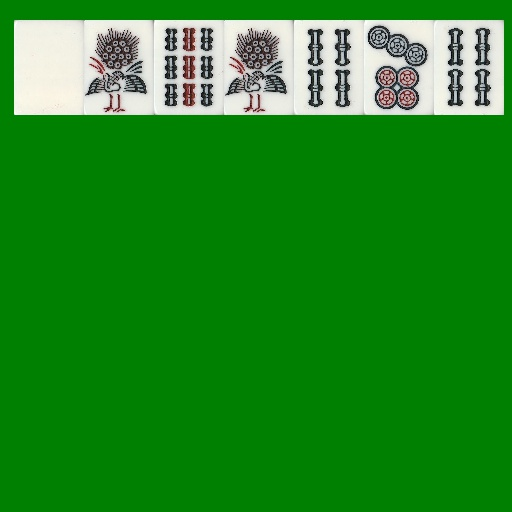1s: (84, 20, 154, 115), (224, 20, 294, 115)
4s: (294, 20, 364, 115), (434, 20, 504, 115)
7p: (364, 20, 434, 115)
9s: (154, 20, 224, 115)
white: (14, 20, 84, 115)
